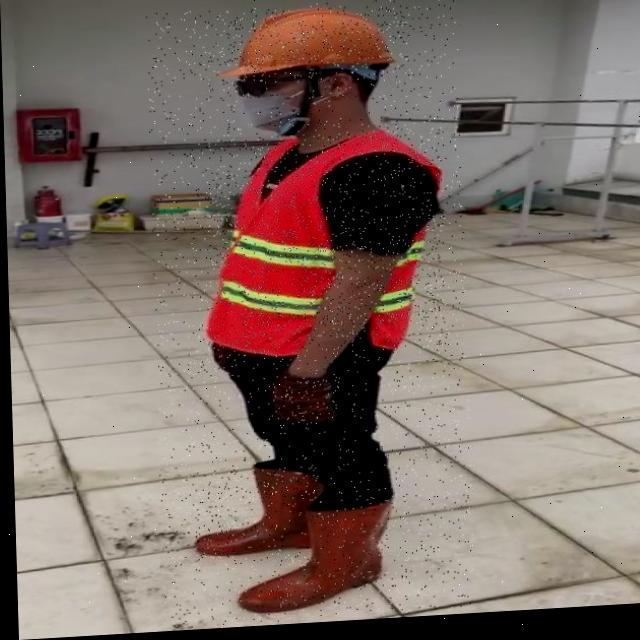Gloves: (269, 368, 340, 432)
Helmet: (215, 7, 395, 84)
Safety-Boot: (232, 502, 393, 616), (190, 459, 323, 559)
Safety-Vest: (198, 130, 446, 367)
